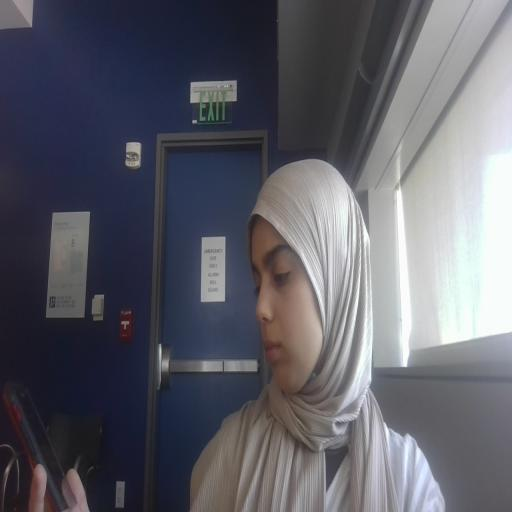phone: (0, 377, 128, 512)
